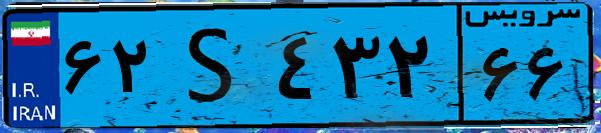2: (385, 28, 445, 110), (110, 28, 158, 98)
3: (330, 28, 385, 110)
4: (270, 28, 330, 110)
6: (57, 26, 110, 100), (475, 38, 525, 113), (525, 38, 570, 115)
S: (158, 12, 270, 120)
